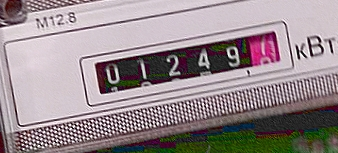0: (101, 57, 121, 84)
1: (132, 54, 149, 80)
2: (162, 50, 184, 77)
4: (194, 42, 213, 70)
7: (253, 31, 270, 56)
9: (223, 41, 242, 67)
screen: (71, 21, 308, 110)
